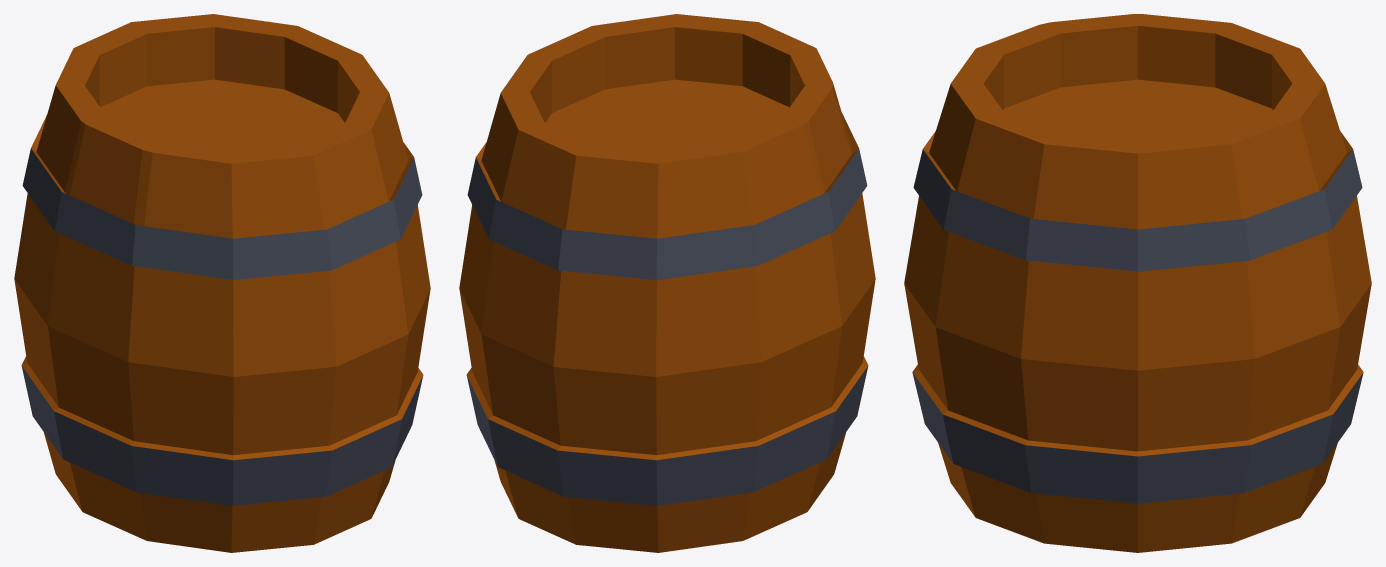
Rendered from barrel2.gltf.
3 renders of one model, left to right at view 1: azimuth 30°, elevation 25°; view 2: azimuth 150°, elevation 25°; view 3: azimuth 270°, elevation 25°, orthographic. The views are drawn at different scales.
Parts seen in each view (by area): view 1: barrel; view 2: barrel; view 3: barrel.
Boxes of the visible parts, x1=… form: barrel: x1=14, y1=14, x2=430, y2=552; barrel: x1=459, y1=14, x2=875, y2=552; barrel: x1=904, y1=14, x2=1371, y2=552.
Bounding box in the file's own units: 2.88 × 3.07 × 3.26.
